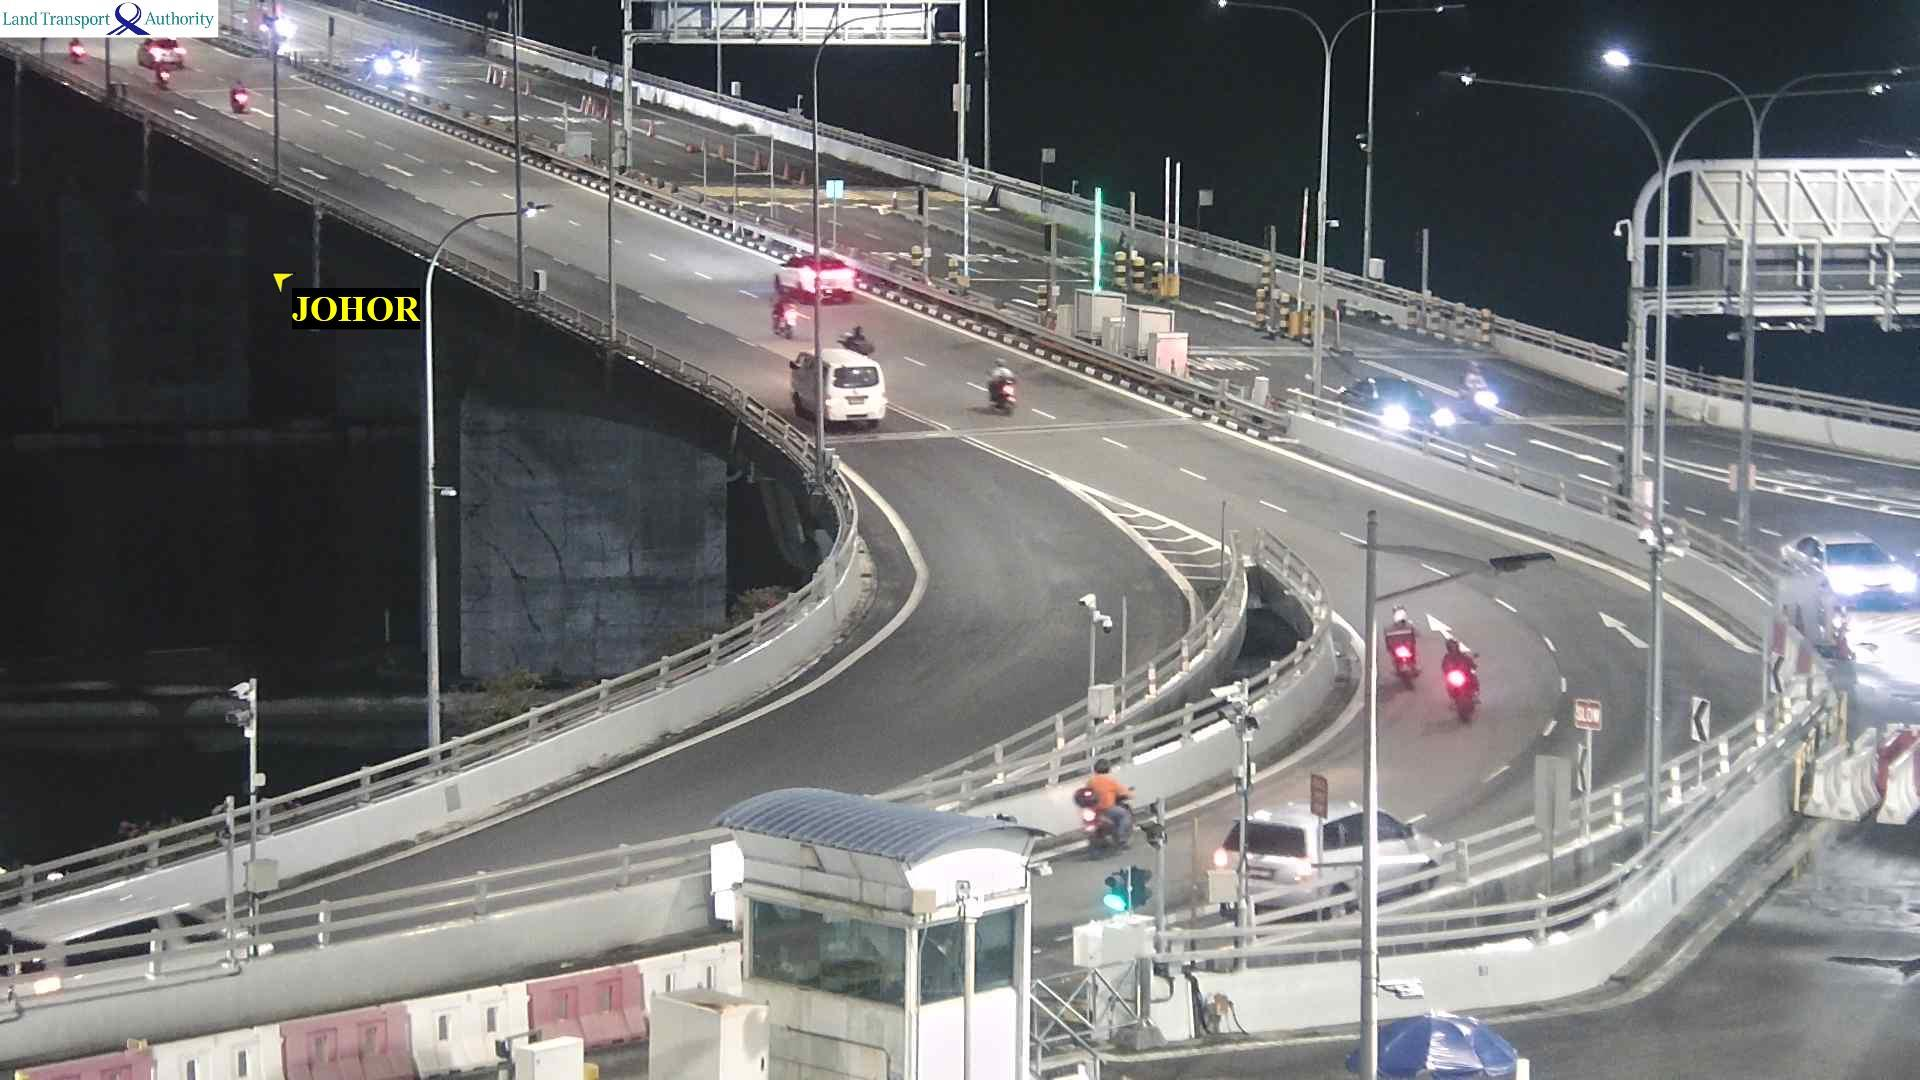vehicle-secondlink-johor: (1215, 790, 1445, 911), (787, 343, 886, 429), (772, 253, 856, 309), (1081, 760, 1135, 845), (1443, 640, 1477, 719), (978, 355, 1017, 409), (1392, 605, 1412, 681), (771, 295, 799, 337), (138, 40, 184, 65), (837, 325, 875, 354), (230, 80, 248, 109), (67, 39, 86, 60), (157, 68, 174, 90)
vehicle-secondlink-singapore: (1782, 530, 1919, 603), (1333, 371, 1450, 445), (1450, 358, 1500, 426), (364, 50, 415, 82)
